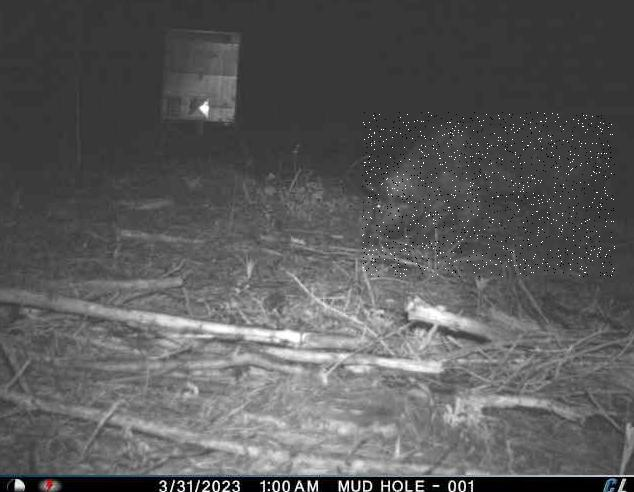Hog: (362, 112, 615, 277)
